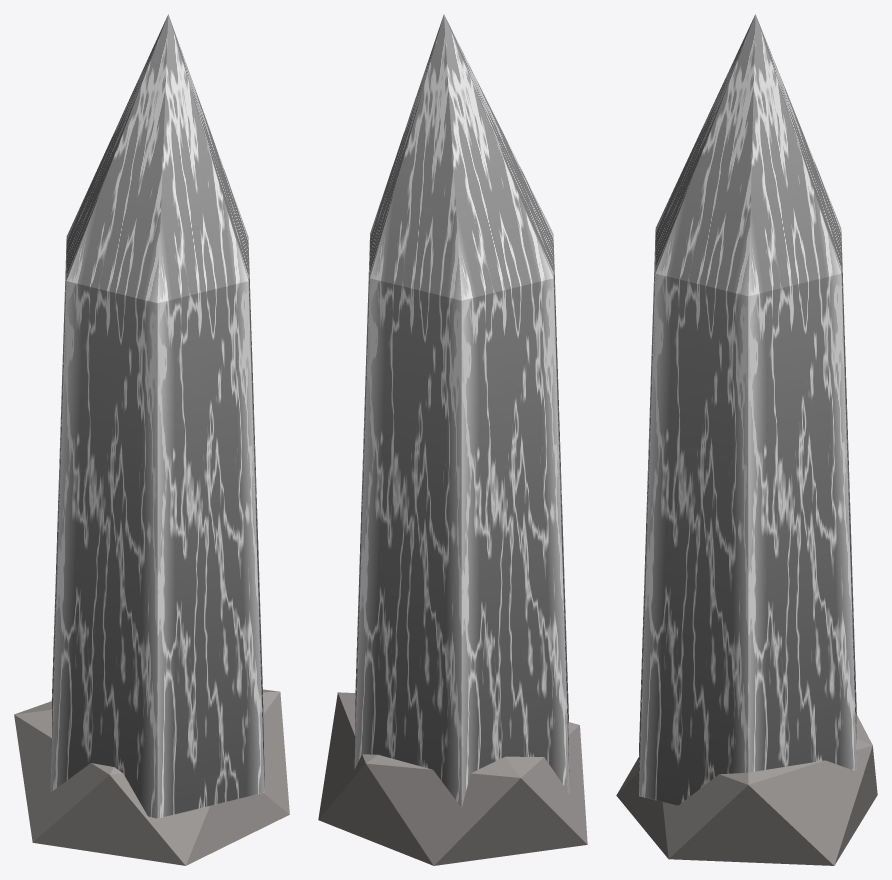
File: SpikeRushFX3.fbx
3 renders of one model, left to right at view 1: azimuth 30°, elevation 25°; view 2: azimuth 150°, elevation 25°; view 3: azimuth 270°, elevation 25°, orthographic. The views are drawn at different scales.
Visible parts, largest first — view 1: FX_Ice, FX_Rock; view 2: FX_Ice, FX_Rock; view 3: FX_Ice, FX_Rock.
Boxes of the visible parts, <box> form: FX_Ice: <box>50,14,264,818</box>; FX_Rock: <box>14,689,289,865</box>; FX_Ice: <box>354,14,569,807</box>; FX_Rock: <box>318,692,587,865</box>; FX_Ice: <box>639,14,856,805</box>; FX_Rock: <box>616,714,877,865</box>.
Size of what is drawn, in the model's own units: 2.08 by 6.72 by 1.86.
2 materials, 1 textured.
